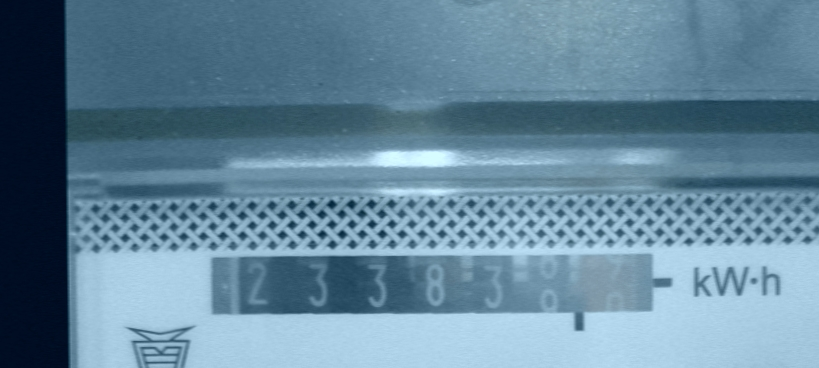0: (602, 288, 628, 313)
2: (243, 258, 271, 307)
3: (304, 259, 331, 309), (365, 260, 390, 311), (480, 261, 506, 309)
8: (422, 261, 447, 307), (535, 254, 563, 280)
9: (535, 285, 562, 314), (602, 252, 627, 281)
screen: (199, 240, 671, 337)
